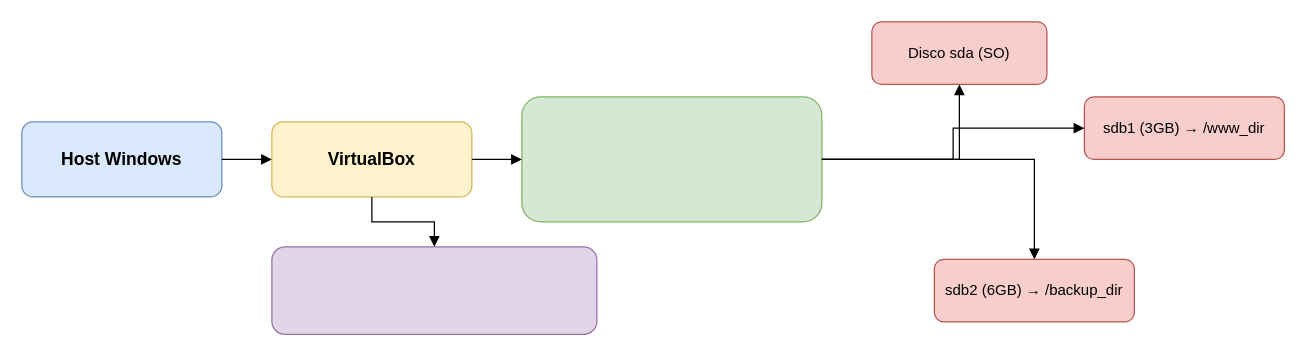
The diagram is 1306 pixels wide and 356 high, and some of its shapes have lost their labels. The centre of each missing label's shape, as x and y in pixels:
TP_Integrador_Compu_Apl → /mnt/shared: pixel 434 290
VM Debian (TPServer)\nServicios: SSH(22), Apache(80), MariaDB: pixel 671 159
